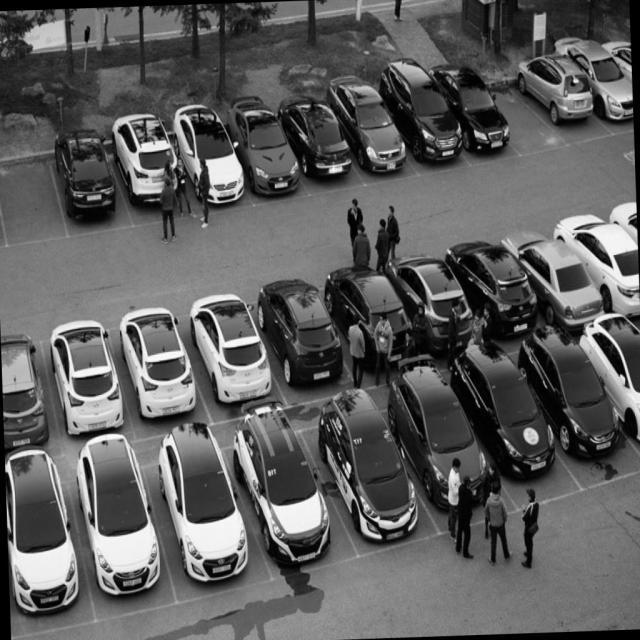car: (297, 388, 440, 544), (446, 350, 574, 504), (222, 416, 354, 565), (136, 423, 252, 592), (374, 374, 500, 525), (67, 441, 179, 609), (520, 329, 640, 477), (5, 450, 94, 634), (392, 230, 482, 368), (326, 251, 420, 381), (118, 303, 210, 435), (258, 272, 354, 397), (184, 291, 278, 418), (452, 220, 544, 348), (518, 213, 605, 338), (436, 56, 520, 182), (46, 310, 130, 432), (384, 68, 472, 174), (560, 204, 640, 320), (521, 53, 612, 154), (332, 68, 410, 180), (171, 104, 249, 214), (556, 26, 634, 136), (112, 110, 188, 222), (285, 88, 360, 198), (229, 92, 300, 202), (1, 328, 59, 460), (59, 135, 130, 240)
free: (486, 68, 568, 170), (0, 150, 66, 248)
